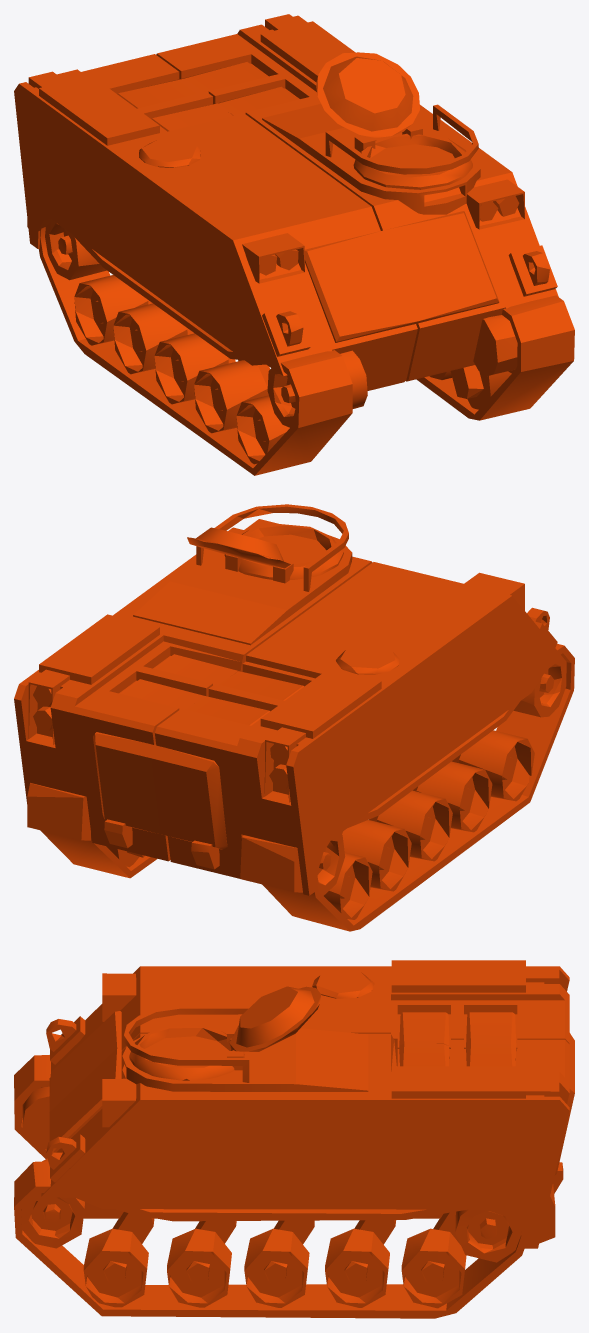
The model's file is WbApcLowpoly.fbx.
3 renders of one model, top to bottom at view 1: azimuth 30°, elevation 25°; view 2: azimuth 150°, elevation 25°; view 3: azimuth 270°, elevation 25°, orthographic. The views are drawn at different scales.
Visible parts, largest first — view 1: Body.005, Wheel.046, Wheel.044, Wheel.045, Wheel.043, Wheel.047, WheelFixed.014, WheelFixed.015, Wheel.036; view 2: Body.005, Wheel.047, Wheel.044, Wheel.045, Wheel.046, Wheel.043, WheelFixed.015, WheelFixed.014; view 3: Body.005, Wheel.038, Wheel.039, Wheel.037, Wheel.040, Wheel.036, WheelFixed.013, WheelFixed.012.
Part boxes in pixels (x1=…): Body.005: x1=14, y1=14, x2=574, y2=475; Wheel.046: x1=194, y1=360, x2=268, y2=433; Wheel.044: x1=113, y1=303, x2=187, y2=374; Wheel.045: x1=154, y1=333, x2=228, y2=404; Wheel.043: x1=74, y1=275, x2=148, y2=345; Wheel.047: x1=236, y1=395, x2=289, y2=464; WheelFixed.014: x1=45, y1=220, x2=106, y2=280; WheelFixed.015: x1=267, y1=368, x2=295, y2=427; Wheel.036: x1=467, y1=371, x2=511, y2=409; Body.005: x1=14, y1=504, x2=574, y2=931; Wheel.047: x1=459, y1=730, x2=534, y2=801; Wheel.044: x1=342, y1=820, x2=411, y2=891; Wheel.045: x1=377, y1=790, x2=452, y2=861; Wheel.046: x1=416, y1=761, x2=492, y2=832; Wheel.043: x1=324, y1=852, x2=372, y2=919; WheelFixed.015: x1=513, y1=657, x2=566, y2=717; WheelFixed.014: x1=317, y1=833, x2=345, y2=895; Body.005: x1=14, y1=960, x2=574, y2=1318; Wheel.038: x1=244, y1=1228, x2=309, y2=1307; Wheel.039: x1=325, y1=1228, x2=389, y2=1307; Wheel.037: x1=167, y1=1228, x2=231, y2=1307; Wheel.040: x1=401, y1=1228, x2=466, y2=1308; Wheel.036: x1=83, y1=1228, x2=148, y2=1307; WheelFixed.013: x1=455, y1=1209, x2=520, y2=1262; WheelFixed.012: x1=21, y1=1193, x2=84, y2=1248.
Bounding box in the file's own units: 0.4581 × 0.4665 × 0.8129.
